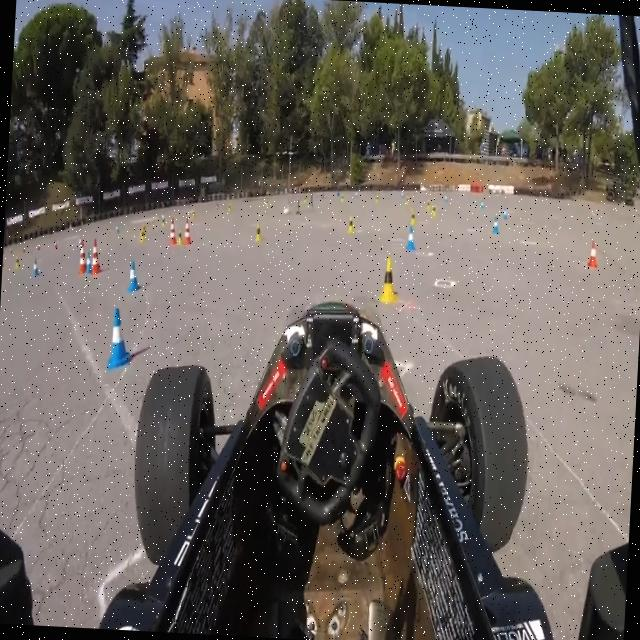blue_cone: (107, 302, 135, 370), (125, 258, 142, 294), (406, 224, 417, 253), (84, 250, 94, 276), (32, 258, 42, 278), (491, 214, 500, 236)
large_orange_cone: (76, 237, 90, 276), (90, 238, 103, 276), (182, 217, 195, 247), (167, 216, 180, 246)
orange_cone: (586, 238, 600, 270)
yellow_cone: (376, 255, 401, 305), (345, 212, 356, 237), (254, 222, 263, 244), (409, 209, 417, 226), (177, 230, 185, 244), (140, 226, 147, 242), (14, 254, 21, 270)
